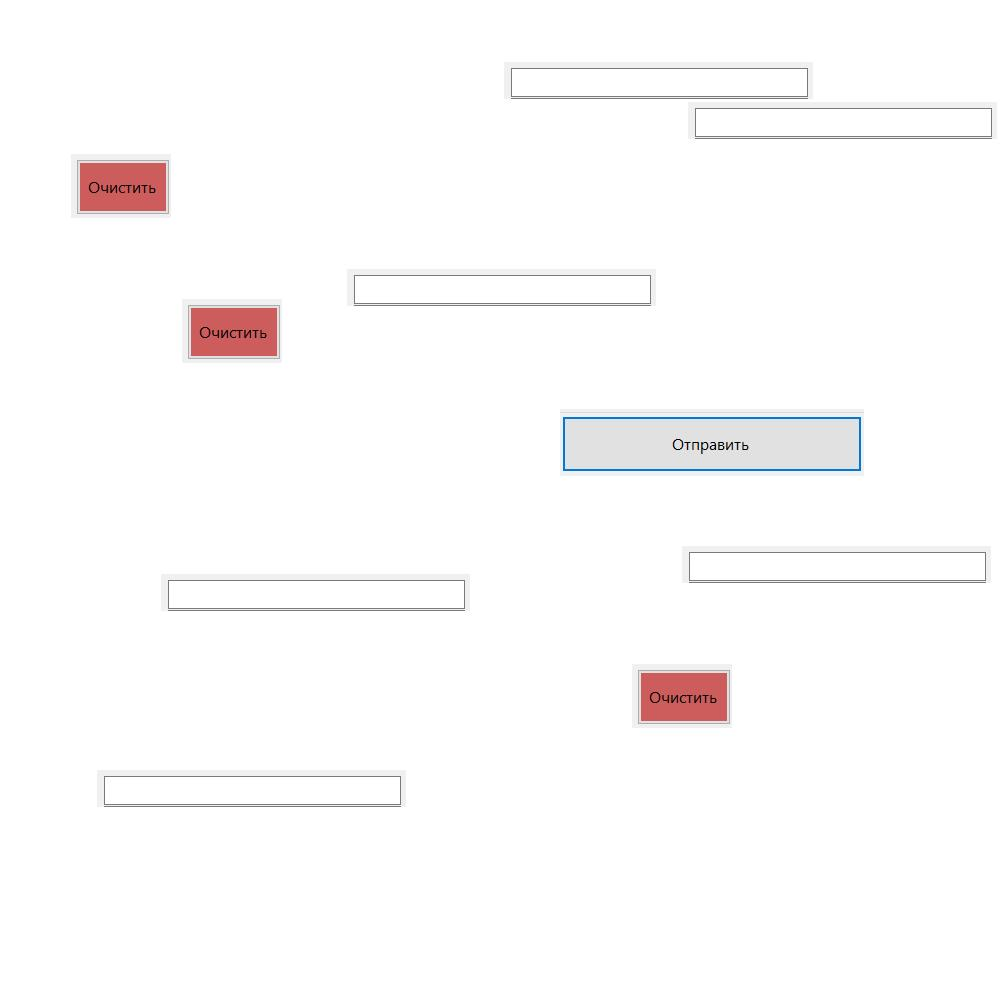Button: (560, 409, 864, 476), (632, 664, 732, 728), (71, 154, 171, 218), (182, 299, 282, 363)
EditText-: (504, 62, 813, 99), (347, 269, 656, 306), (688, 102, 997, 139), (161, 574, 470, 611), (97, 770, 406, 807), (682, 546, 991, 583)
